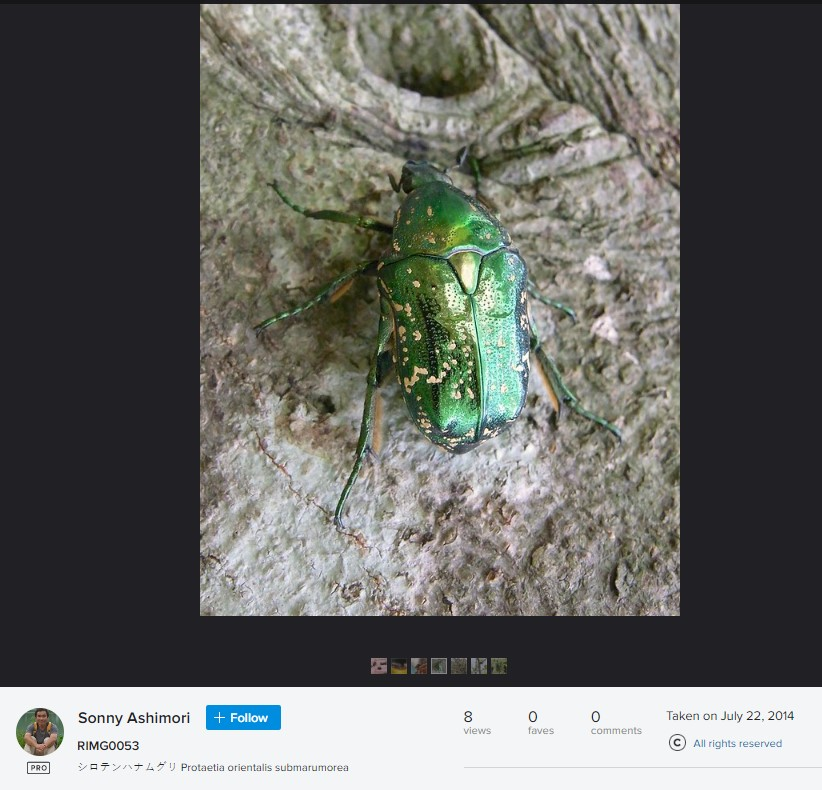Protaetia _orientalis: (254, 164, 627, 532)
